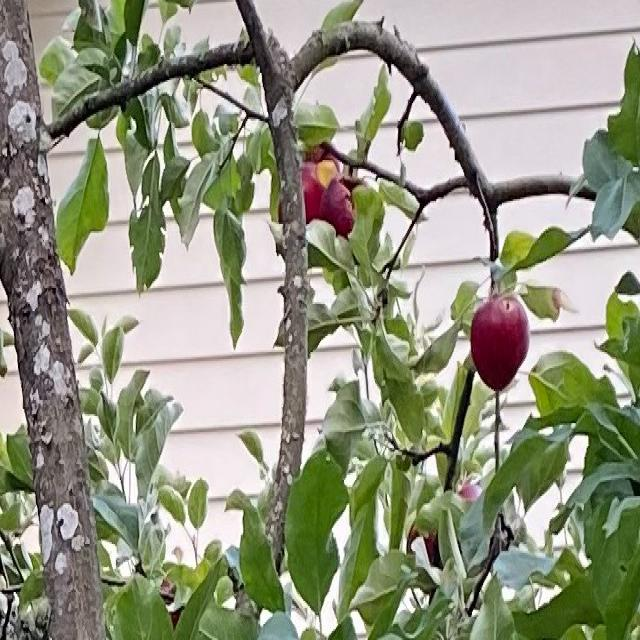Apples: (473, 300, 531, 388), (300, 146, 340, 220)
